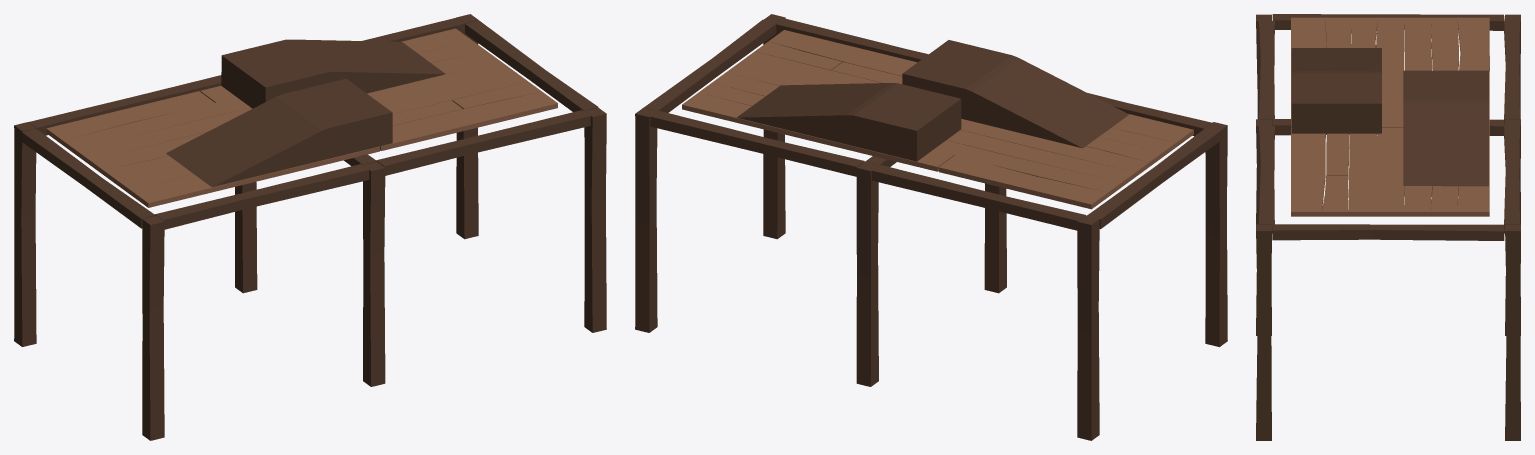
Rendered from Table_3_Conveyor.fbx.
The picture shows the model from 3 angles, left to right: view 1: azimuth 30°, elevation 25°; view 2: azimuth 150°, elevation 25°; view 3: azimuth 270°, elevation 25°; orthographic projection. The views are drawn at different scales.
Parts seen in each view (by area): view 1: Cube.159; view 2: Cube.159; view 3: Cube.159.
Boxes of the visible parts, x1,y1,x2,y2 form: Cube.159: (14,14,606,440); Cube.159: (635,14,1227,440); Cube.159: (1256,14,1520,440).
Bounding box in the file's own units: 3512 × 1844 × 1812.
